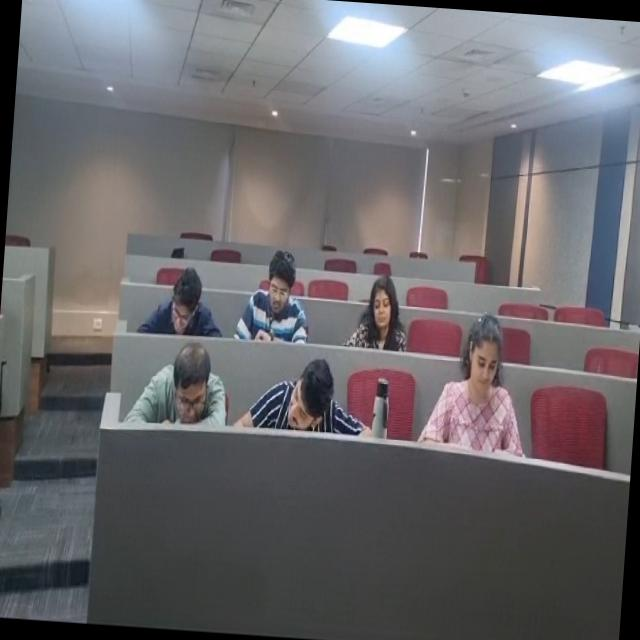cheating: (264, 353, 357, 434), (151, 332, 224, 429)
non-cheating: (442, 323, 534, 457), (240, 242, 316, 346), (145, 267, 226, 343), (347, 260, 412, 350)
